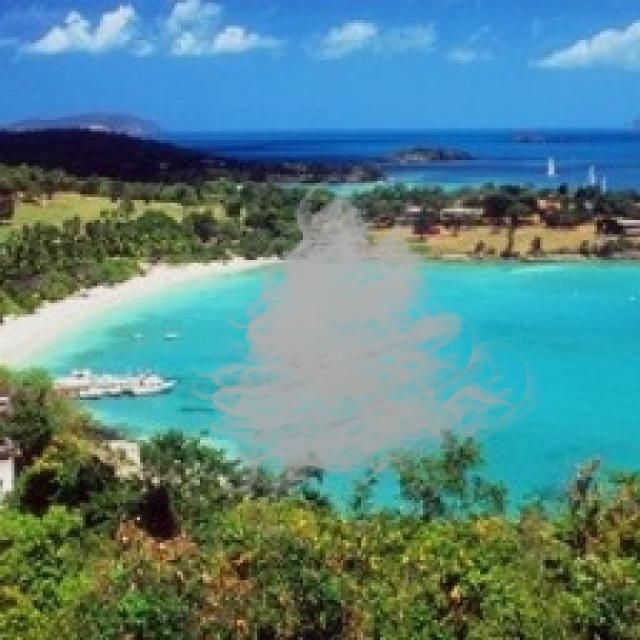smoke: (177, 166, 546, 511)
